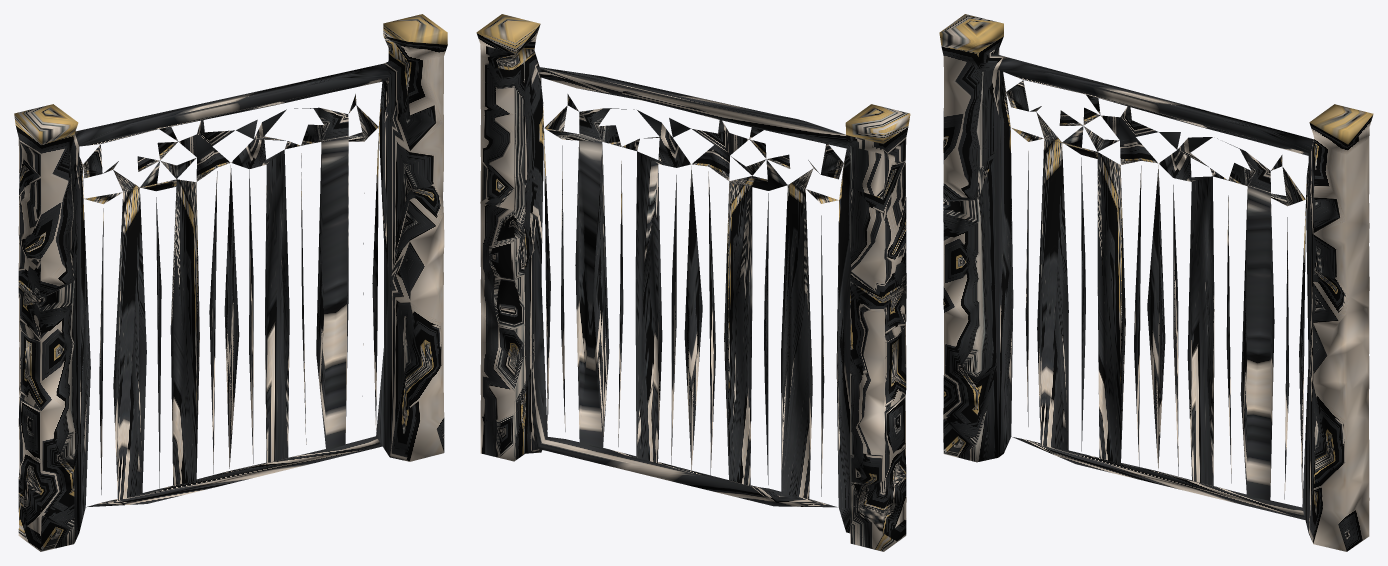
Rendered from fence_lux.glb.
The picture shows the model from 3 angles, left to right: view 1: azimuth 30°, elevation 25°; view 2: azimuth 150°, elevation 25°; view 3: azimuth 330°, elevation 25°; orthographic projection.
Parts seen in each view (by area): view 1: LO; view 2: LO; view 3: LO.
Part boxes in pixels (<box>): LO: <box>14,14,447,551</box>; LO: <box>476,14,910,551</box>; LO: <box>939,14,1373,551</box>.
Bounding box in the file's own units: 3 × 3 × 0.3266.
Materials: 1 (1 with a texture image).
